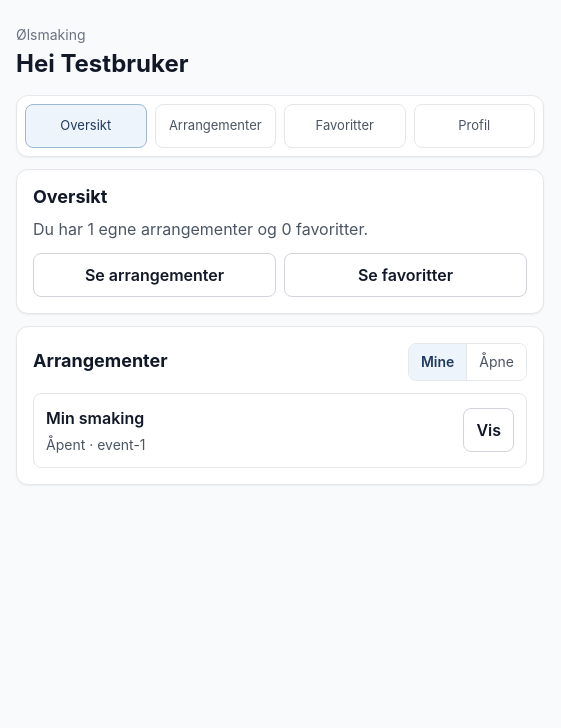
Test: App core flows › shows inline error when delete is blocked by reviews
Click the button "Arrangementer" at (215, 126), box left=154, top=104, right=276, bottom=148
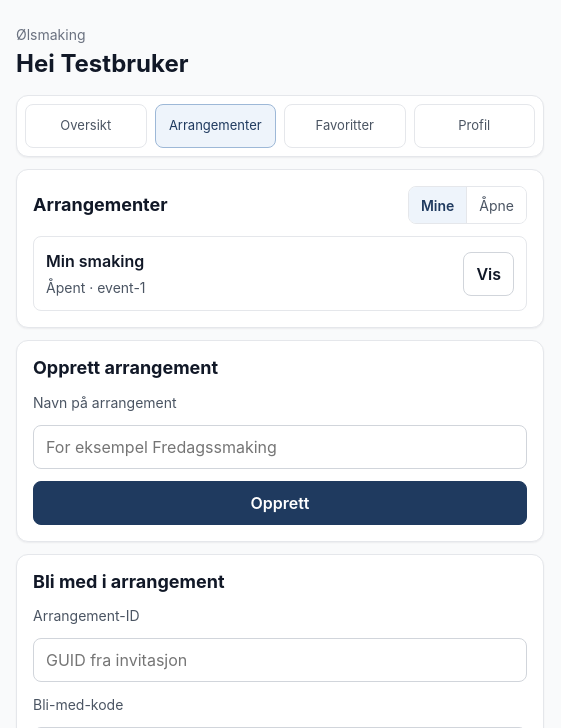
Click the button "Vis" at (489, 274), box left=463, top=252, right=514, bottom=296
(page scrolled)
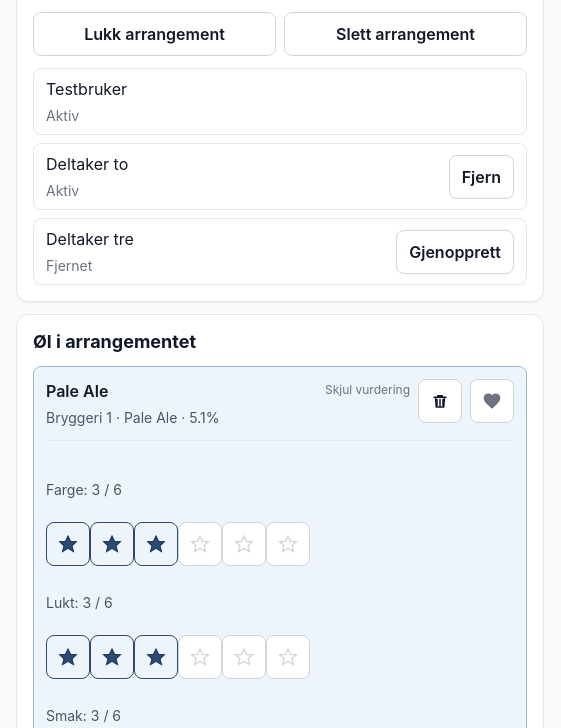
Click the button named "Fjern Pale Ale fra arrangementet" at (440, 400), box left=418, top=378, right=462, bottom=422
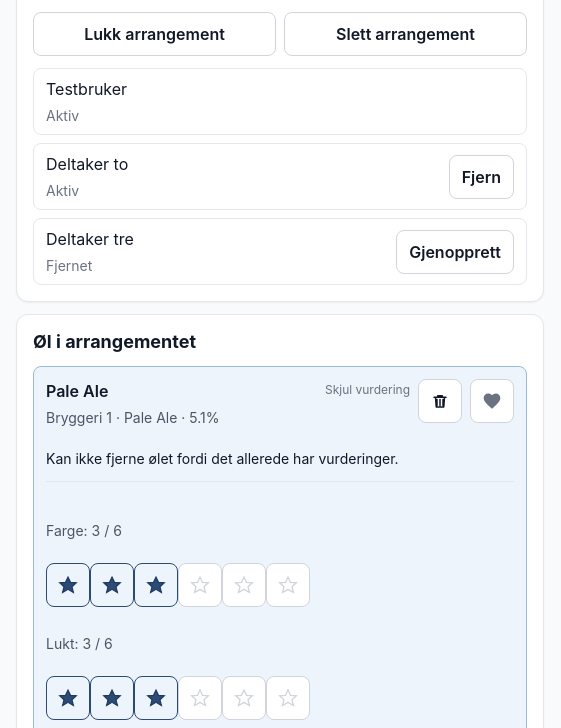
Now the text "Kan ikke fjerne ølet fordi det allerede har vurderinger." is shown, box left=46, top=450, right=399, bottom=466
